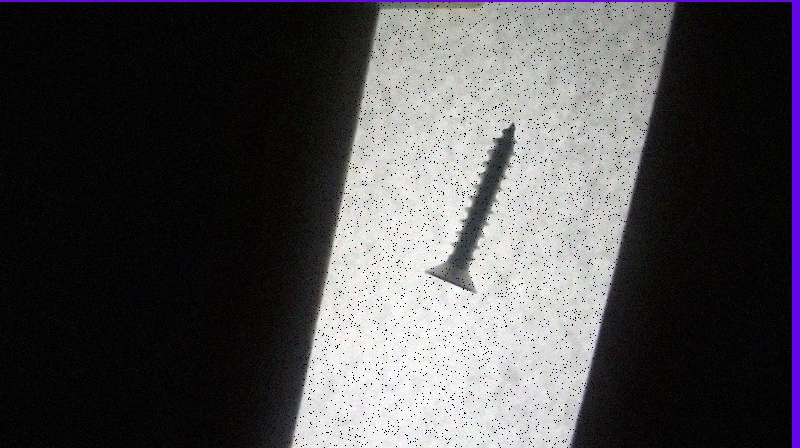S001: (421, 117, 517, 296)
